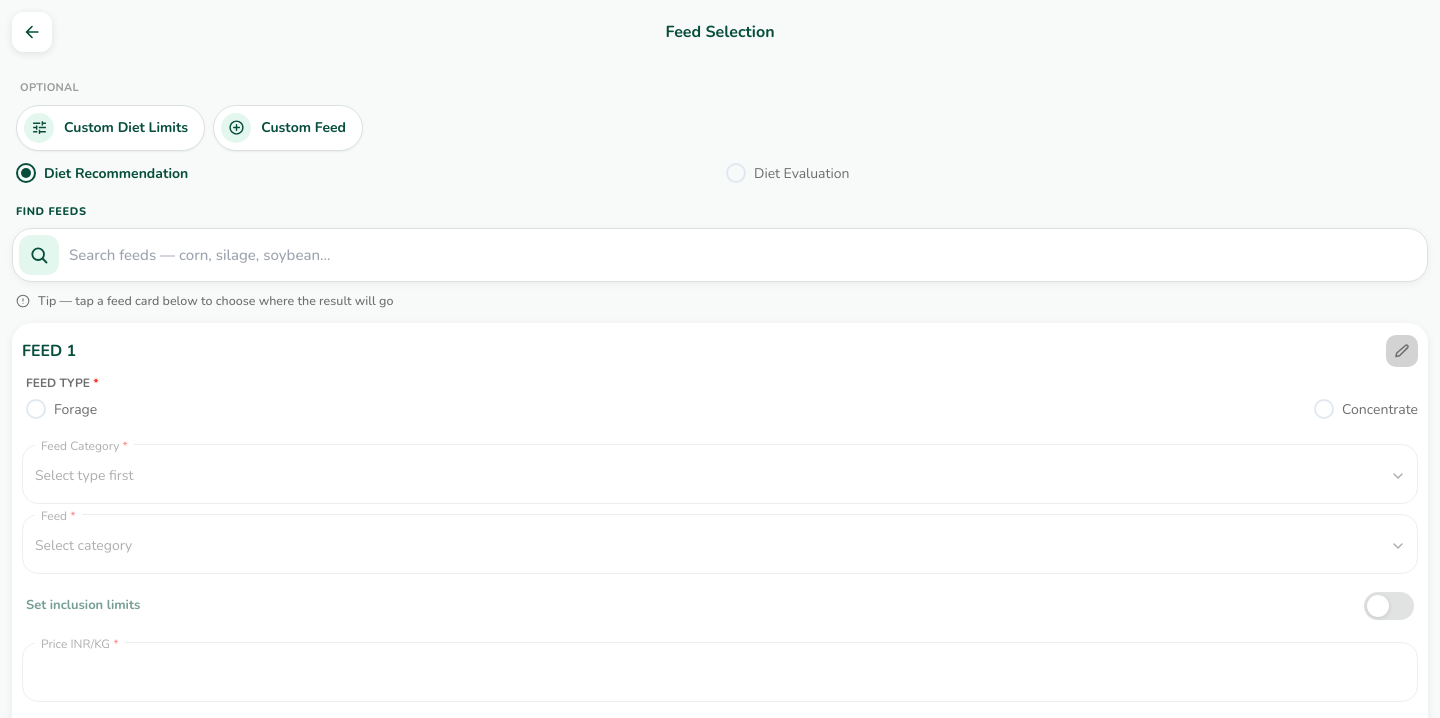
Test: feed-selection — search result highlights the filled card › leaves the landed card marked Selected (active ring) after picking a result
Expected: the text "Selected" is not shown
Type "sugar" into the field with placeholder "Search feeds — corn, silage, soybean…" at (745, 255), box x1=69 y1=236 x2=1421 y2=274
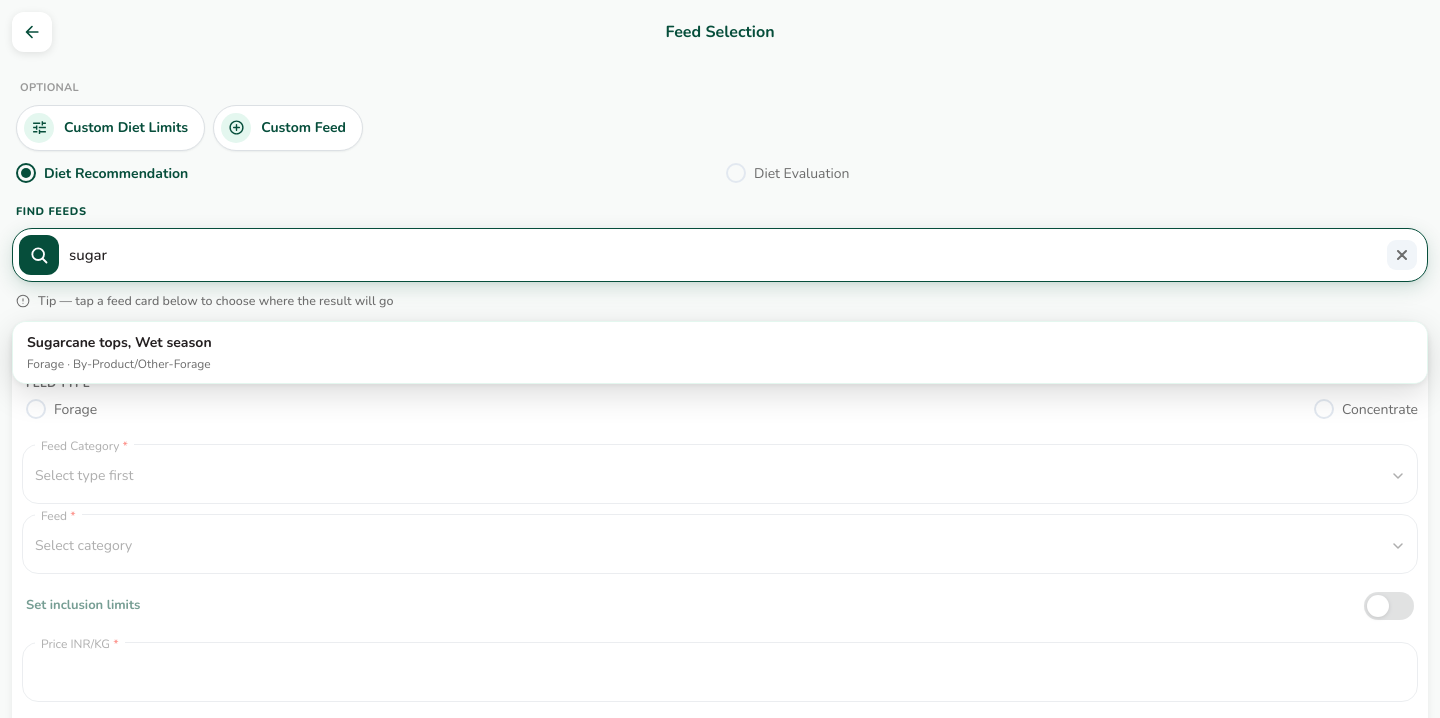
Click the text "Sugarcane tops, Wet season" at (119, 342), box x1=27 y1=333 x2=212 y2=352
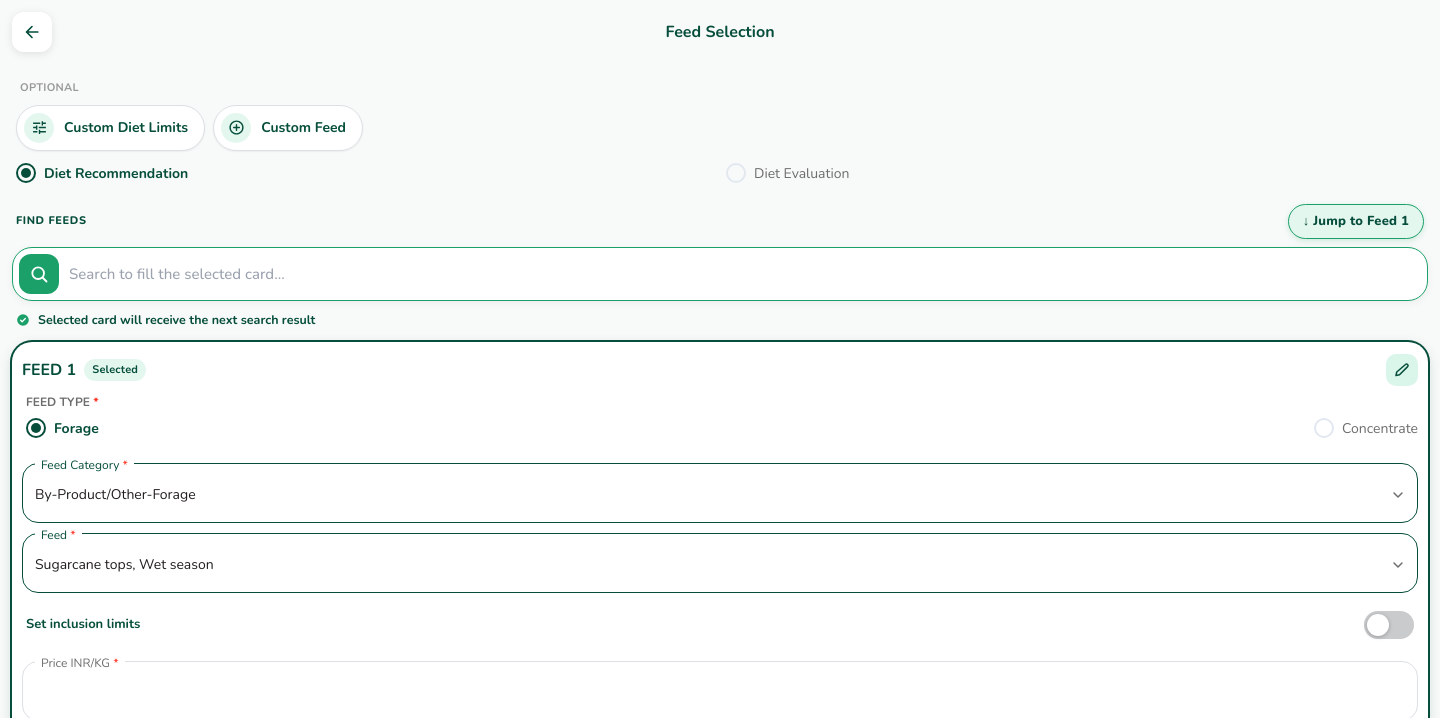
Now the text "Selected" is shown, box x1=84 y1=358 x2=146 y2=381
